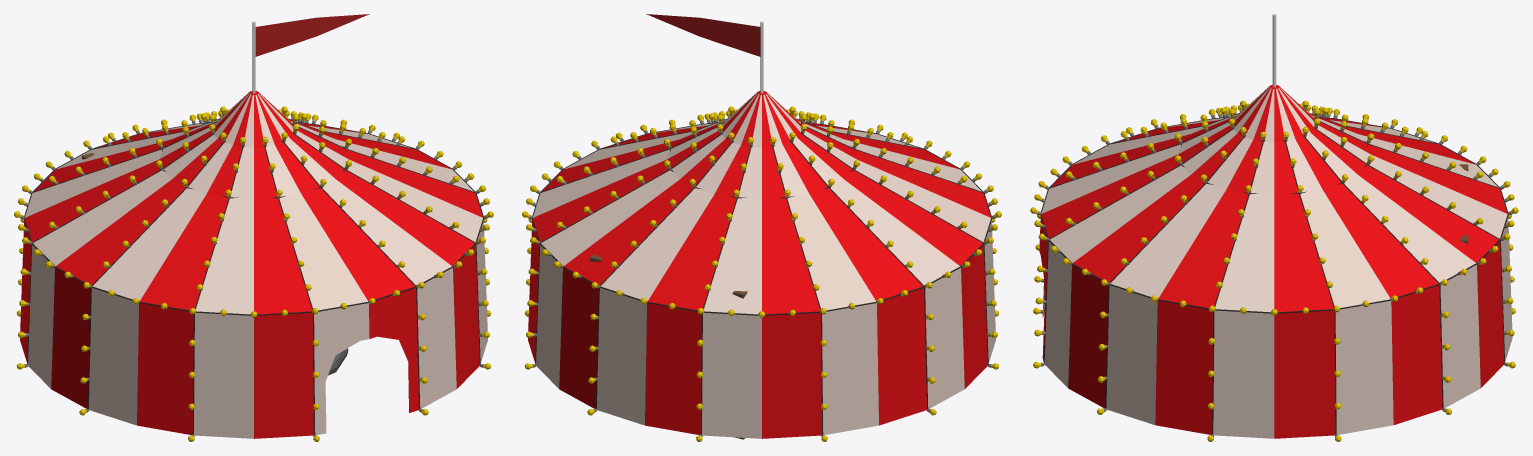
The model's file is Tent.fbx.
The picture shows the model from 3 angles, left to right: view 1: azimuth 30°, elevation 25°; view 2: azimuth 150°, elevation 25°; view 3: azimuth 270°, elevation 25°; orthographic projection.
Visible parts, largest first — view 1: TentNew, TENTLIGHTS, Plane; view 2: TentNew, TENTLIGHTS, Plane; view 3: TentNew, TENTLIGHTS.
Part boxes in pixels (x1=…): TentNew: x1=20, y1=91, x2=487, y2=438; TENTLIGHTS: x1=14, y1=106, x2=493, y2=441; Plane: x1=255, y1=14, x2=369, y2=56; TentNew: x1=528, y1=91, x2=995, y2=438; TENTLIGHTS: x1=522, y1=106, x2=1001, y2=441; Plane: x1=646, y1=14, x2=760, y2=56; TentNew: x1=1039, y1=85, x2=1512, y2=438; TENTLIGHTS: x1=1030, y1=100, x2=1518, y2=441.
Bounding box in the file's own units: 979 × 741 × 979.
